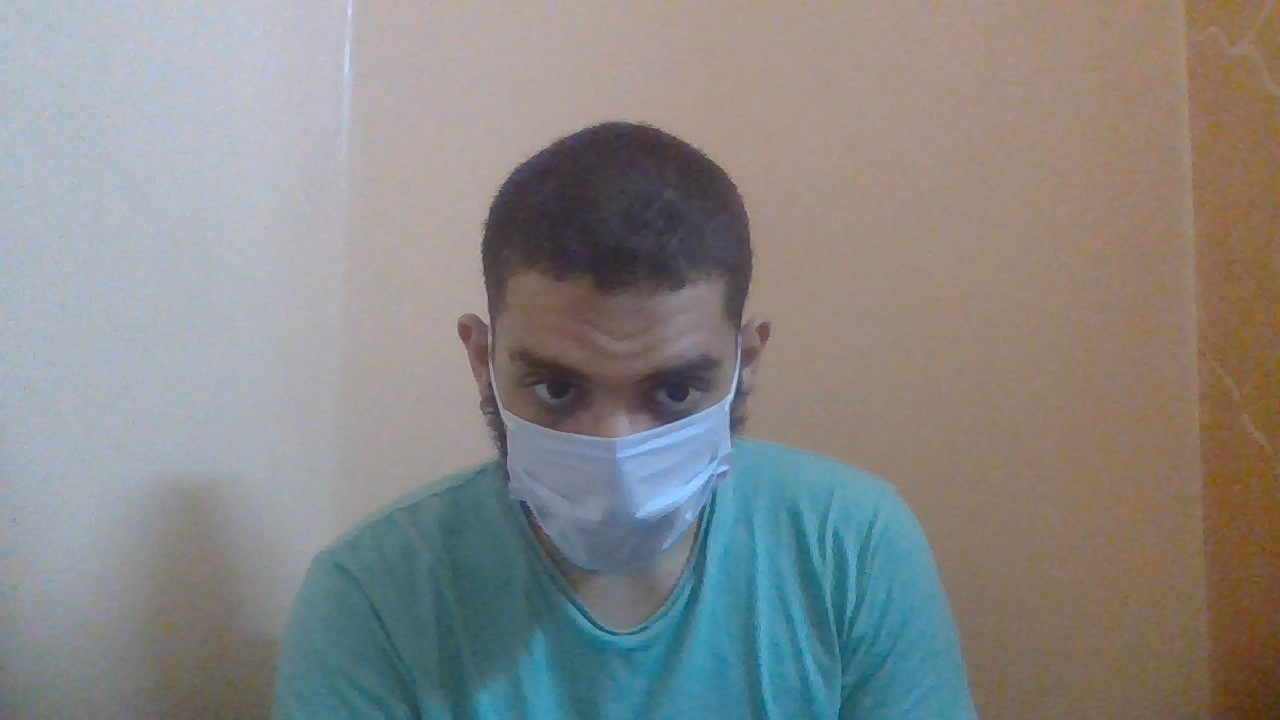mask: (505, 412, 733, 561)
